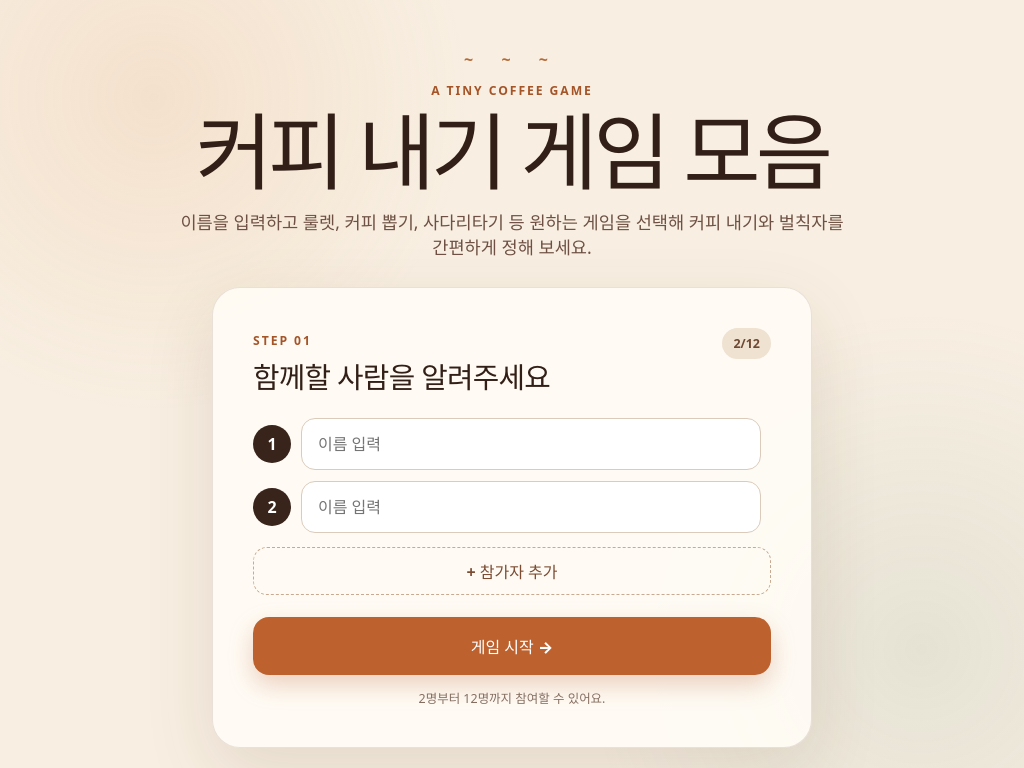
Scenario: App › shows an error instead of silently ignoring invalid names
Step 1. Click the button "게임 시작 →" → point(512, 646), box [253, 617, 771, 675]
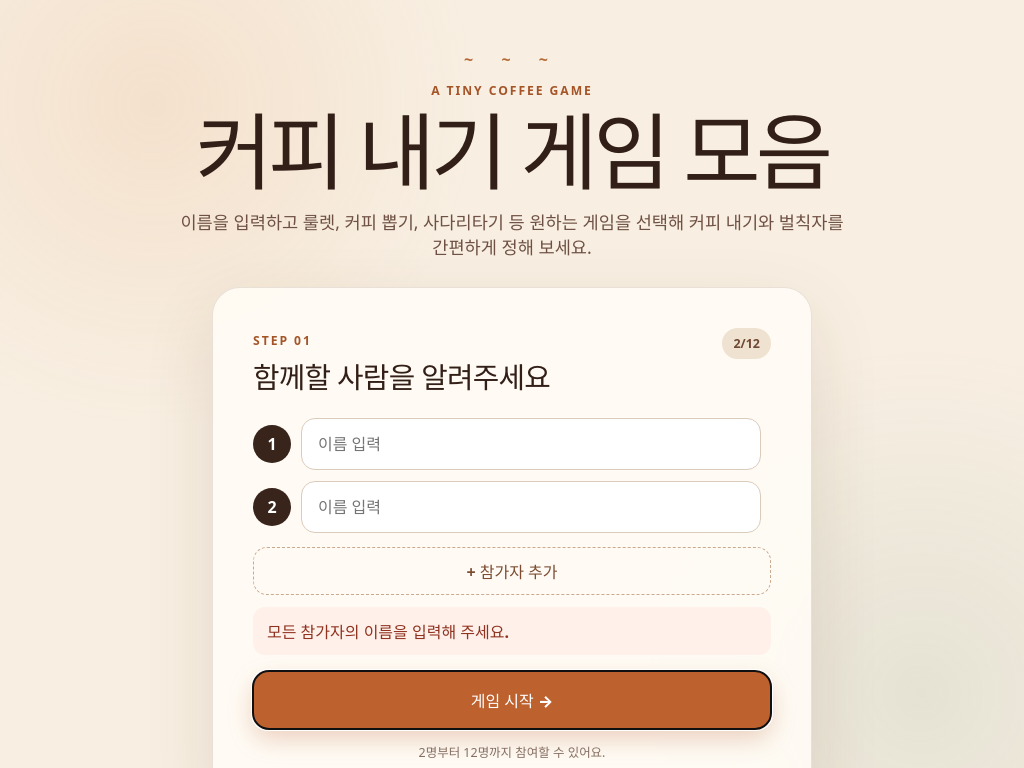
Result: the message shows "이름을 입력해 주세요" at [267, 621, 509, 643]
